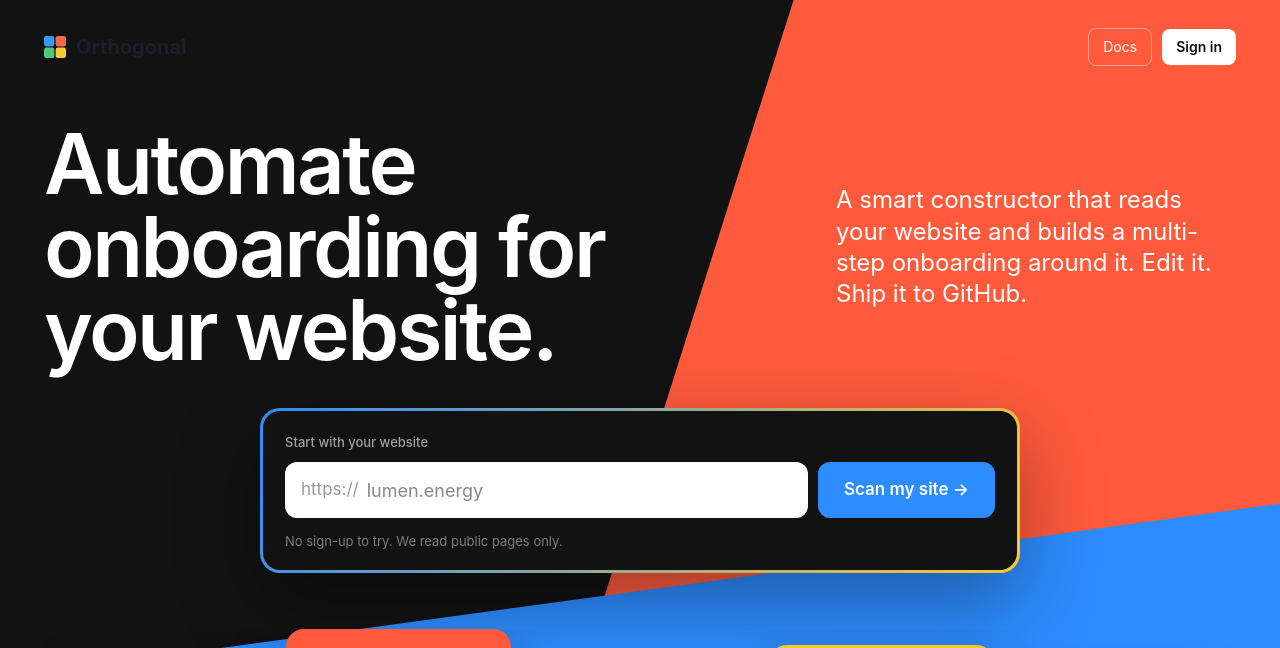
Constructor › returns to the hero with the error when the scan fails
The width and height of the screenshot is (1280, 648).
Click the button "Scan my site →" at (906, 490), box [818,462,995,518]
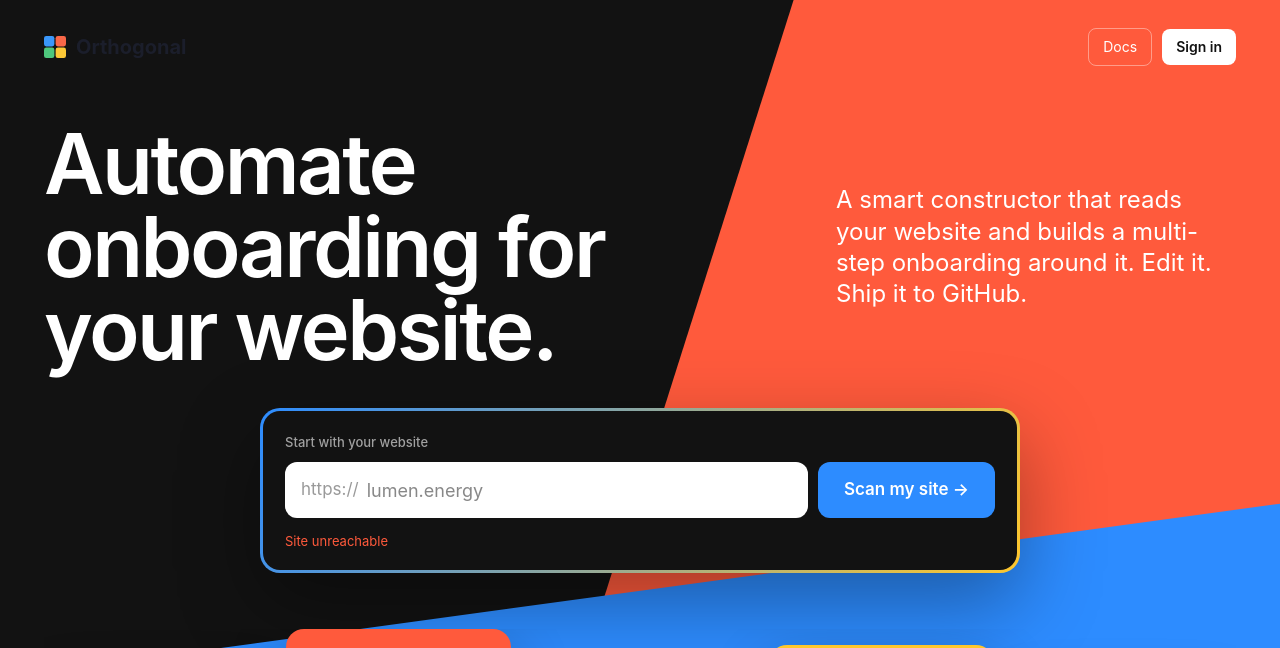
Check: the message reads "Site unreachable", box [285,533,388,549]
